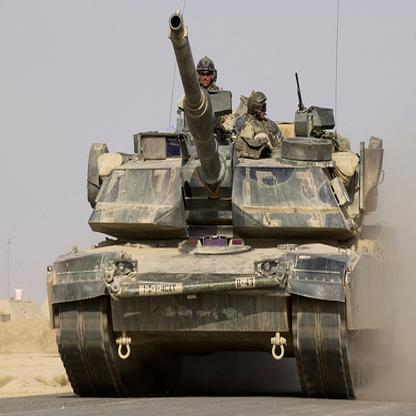Tank: (43, 80, 393, 408)
